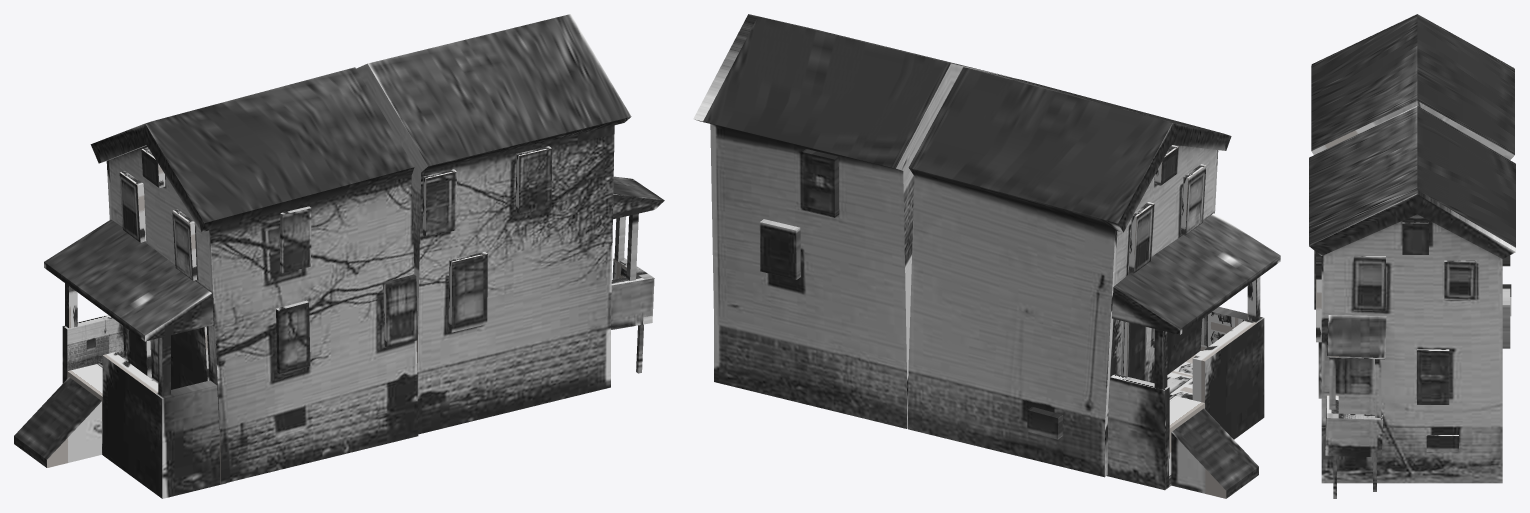
Rendered from Gan_exterior.fbx.
3 views of the same model, side by side, from view 1: azimuth 30°, elevation 25°; view 2: azimuth 150°, elevation 25°; view 3: azimuth 270°, elevation 25° (orthographic). The views are drawn at different scales.
Parts seen in each view (by area): view 1: GAN_house_merged; view 2: GAN_house_merged; view 3: GAN_house_merged.
Boxes of the visible parts, x1=… form: GAN_house_merged: x1=14, y1=14, x2=664, y2=498; GAN_house_merged: x1=693, y1=14, x2=1280, y2=498; GAN_house_merged: x1=1309, y1=14, x2=1515, y2=498.
Size of the model in its own units: 61.96 by 34.98 by 22.17.
1 material, 1 textured.
